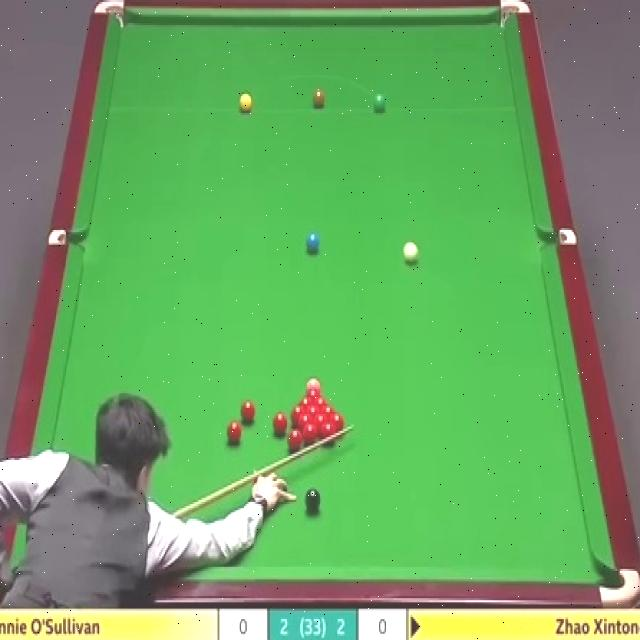black-ball: (304, 485, 321, 514)
blue-ball: (308, 232, 320, 255)
brown-ball: (312, 91, 325, 109)
green-ball: (374, 92, 386, 112)
pink-ball: (306, 374, 322, 392)
red-ball: (239, 398, 258, 424), (304, 421, 320, 446), (289, 428, 305, 453), (328, 413, 346, 434), (321, 422, 337, 445), (226, 420, 242, 442), (273, 410, 288, 433), (298, 413, 314, 429), (314, 414, 328, 432), (291, 407, 304, 423), (320, 405, 338, 416), (312, 397, 330, 408), (304, 387, 322, 397), (306, 406, 322, 416), (296, 397, 312, 407)
white-ball: (402, 240, 420, 266)
yellow-ball: (238, 91, 254, 113)
